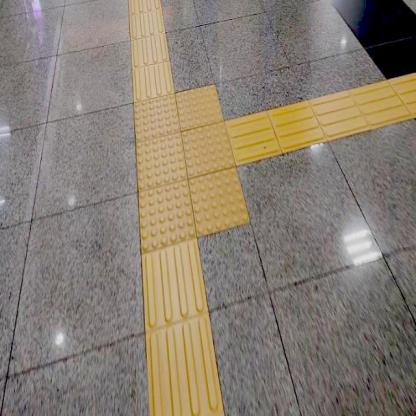podotacti: (106, 64, 266, 270), (236, 68, 416, 167), (141, 254, 224, 415), (128, 0, 176, 93)
